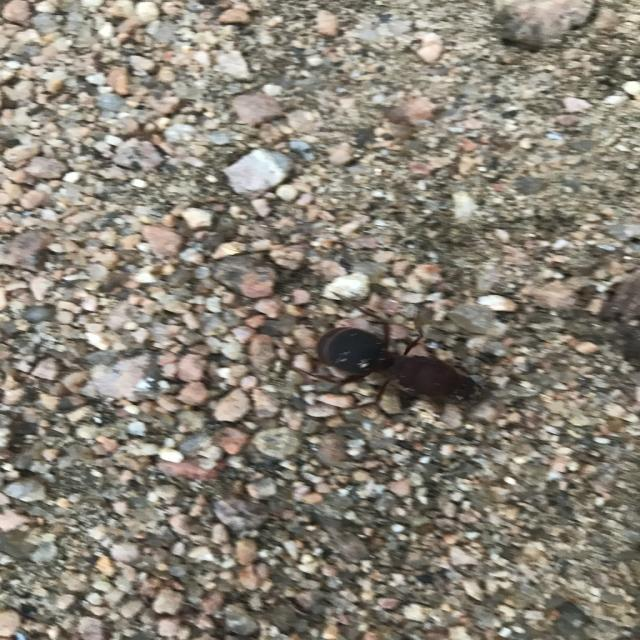Alive-Female-Dealate: (288, 289, 491, 420)
